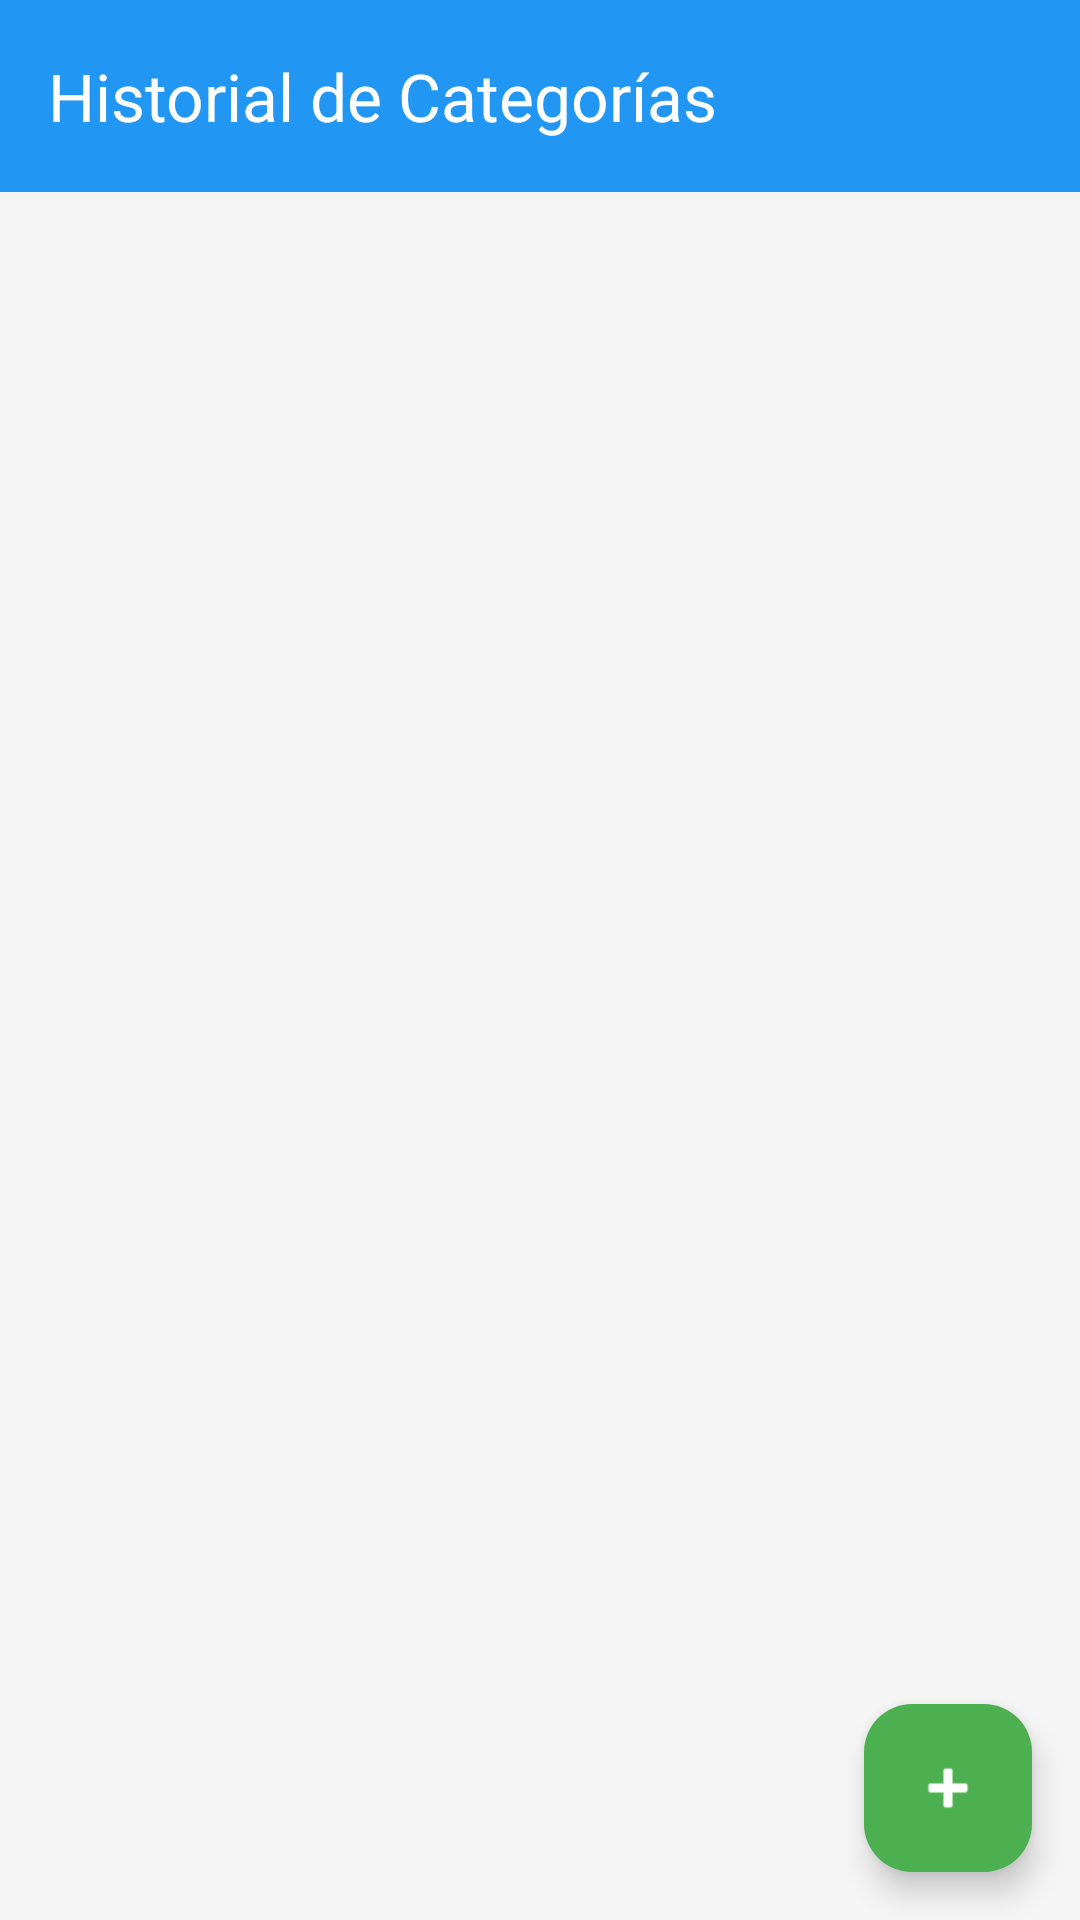

Icon bounding boxes for this 1080*1920 phone screenshot, format (x1, y1, x2, y2):
Agregar categoría: (864, 1704, 1032, 1872)
